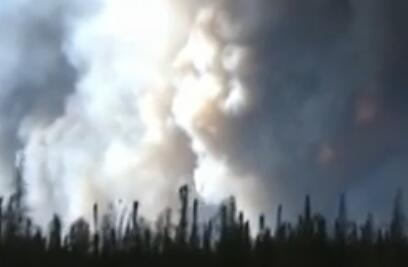yanwu: (4, 1, 407, 238)
